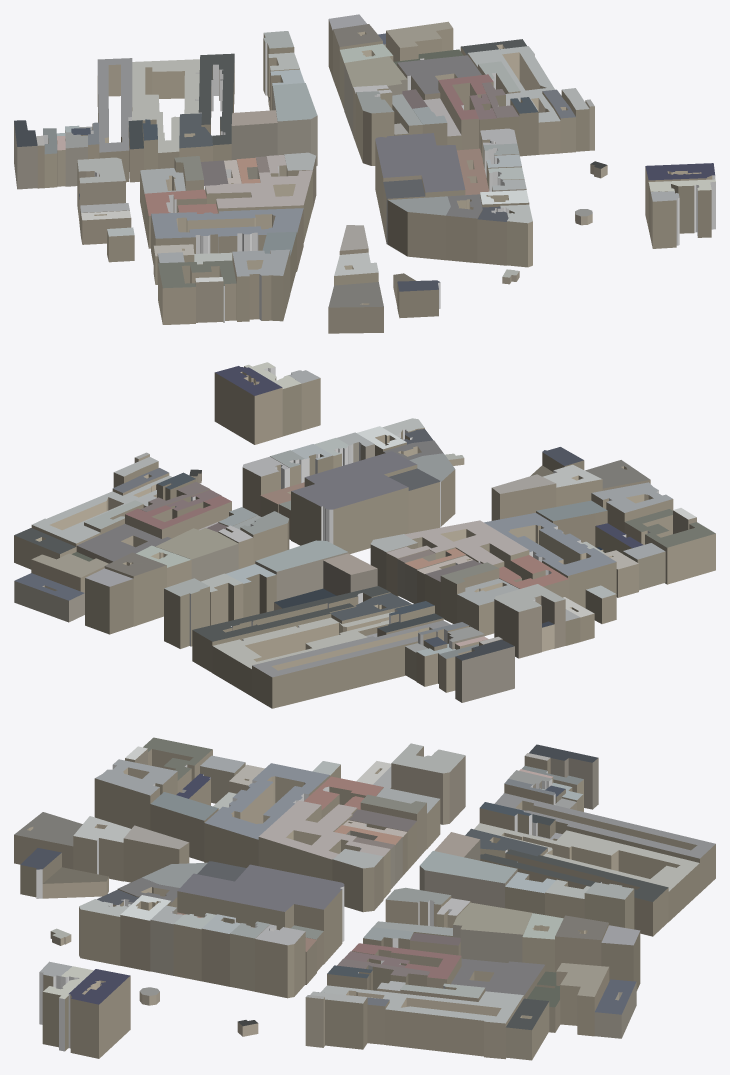
The picture shows the model from 3 angles, top to bottom: view 1: azimuth 30°, elevation 25°; view 2: azimuth 150°, elevation 25°; view 3: azimuth 270°, elevation 25°; orthographic projection. The views are drawn at different scales.
Visible parts, largest first — view 1: tuile; view 2: tuile; view 3: tuile.
Part boxes in pixels (x1,y1,x2,y2): tuile: (14,14,715,333); tuile: (14,362,715,708); tuile: (14,737,715,1060).
Bounding box in the file's own units: 282 × 29.23 × 293.
